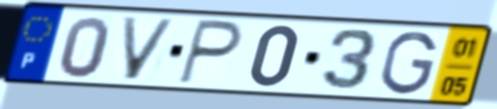0: (54, 13, 114, 81), (246, 23, 303, 89)
3: (320, 27, 382, 93)
G: (378, 29, 440, 97)
P: (175, 16, 246, 88)
V: (119, 15, 180, 83)
